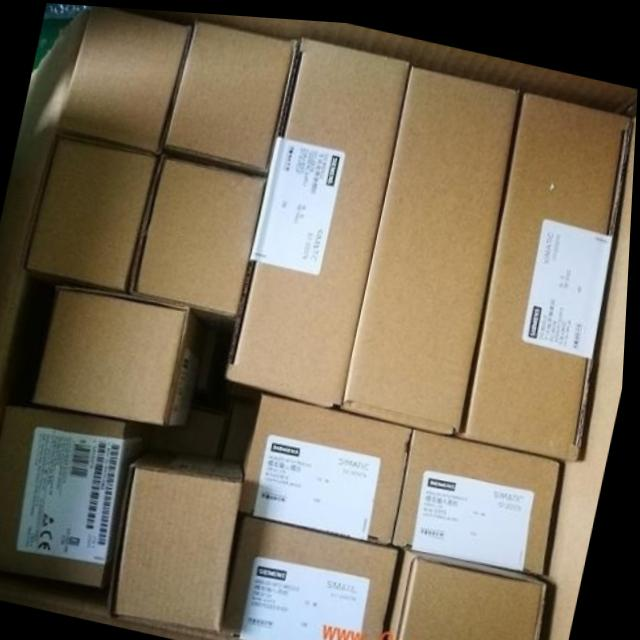box: (228, 35, 412, 403), (345, 60, 521, 429), (467, 84, 636, 454), (0, 404, 155, 585), (243, 389, 415, 542), (396, 421, 565, 571), (114, 443, 247, 628), (39, 286, 211, 424), (228, 509, 406, 640), (131, 155, 269, 316), (28, 135, 165, 292), (163, 17, 299, 169), (57, 5, 194, 154), (392, 545, 551, 640)
